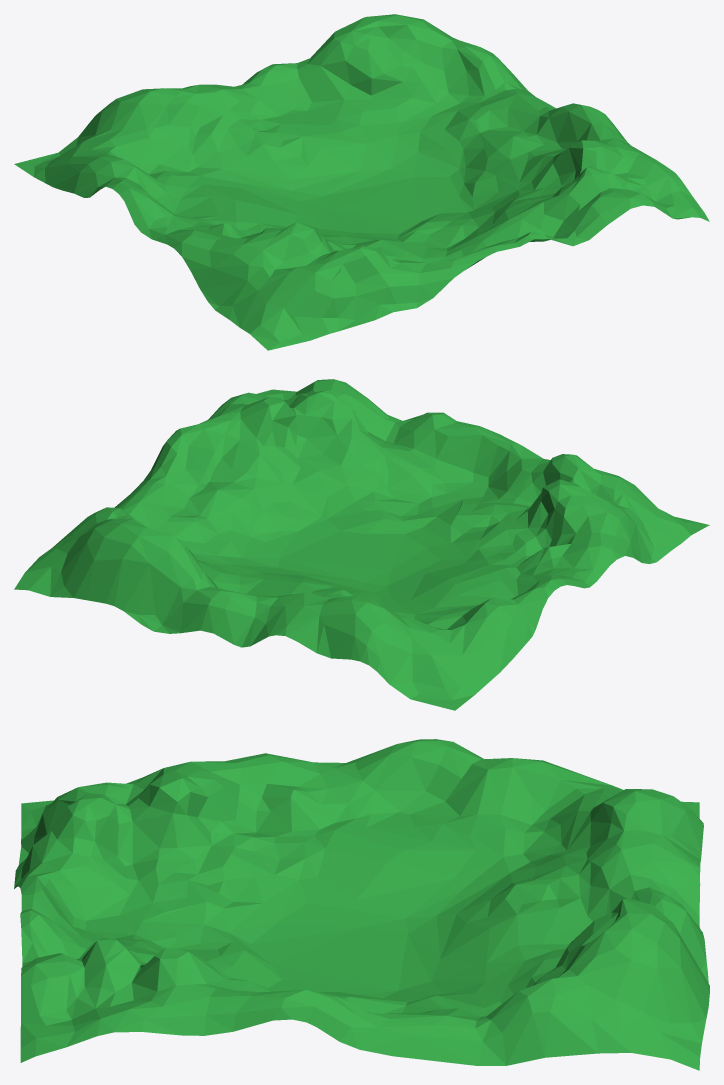
File: terrain.glb
3 renders of one model, top to bottom at view 1: azimuth 30°, elevation 25°; view 2: azimuth 150°, elevation 25°; view 3: azimuth 270°, elevation 25°, orthographic. The views are drawn at different scales.
Visible parts, largest first — view 1: Plane; view 2: Plane; view 3: Plane.
Part boxes in pixels (x1,y1,x2,y2): Plane: (14, 14, 709, 350); Plane: (14, 379, 709, 710); Plane: (14, 739, 709, 1070).
Size of the model in its own units: 102 by 17.82 by 103.
